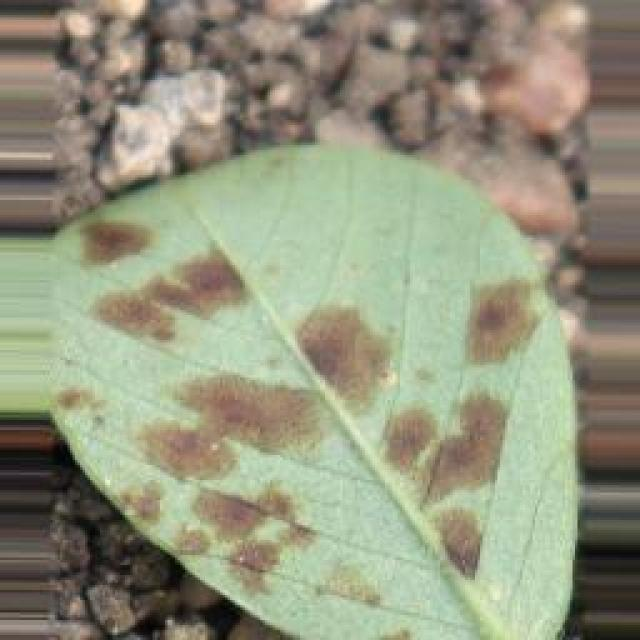Whitefly: (72, 170, 550, 640)
